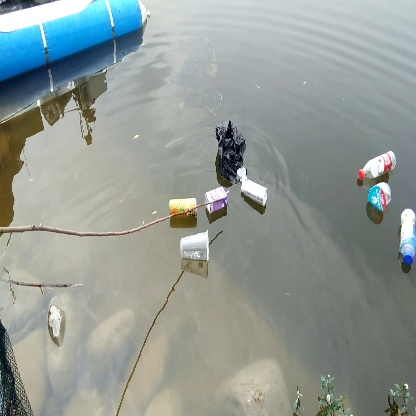bottle: (356, 146, 400, 185), (178, 228, 214, 265), (396, 208, 416, 267), (166, 196, 200, 219)
milk-box: (204, 186, 233, 215)
plastic-bag: (212, 120, 246, 183)
